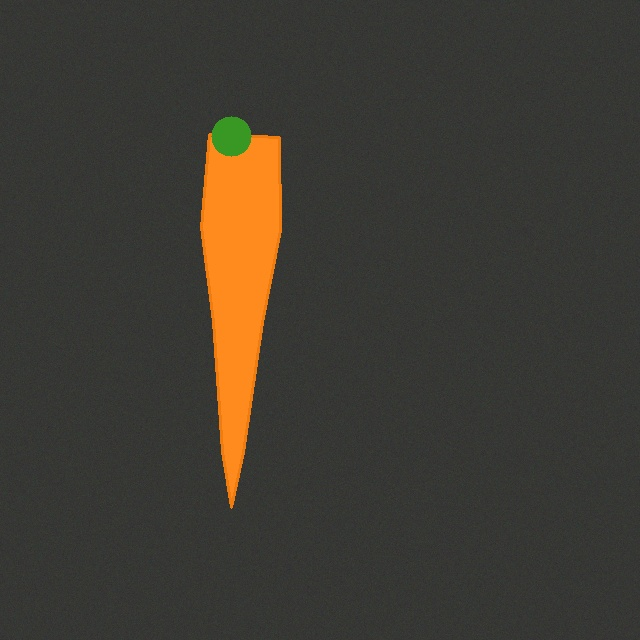Good_Carrot: (193, 126, 288, 515)
